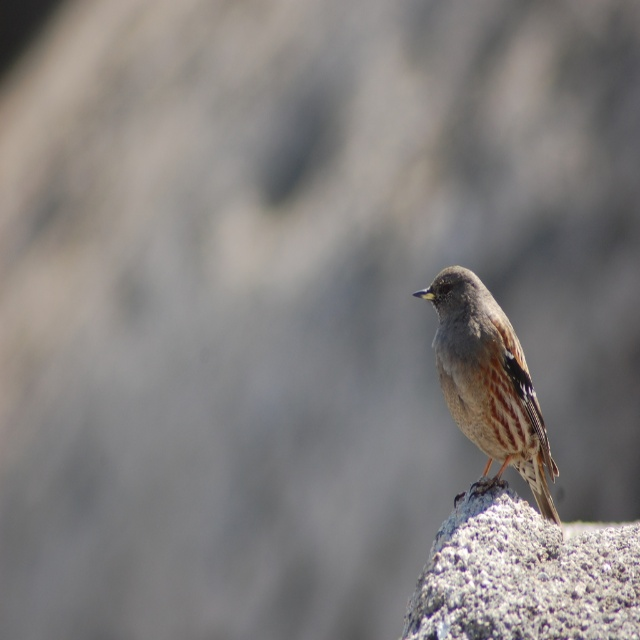Sparrow: (412, 257, 565, 530)
